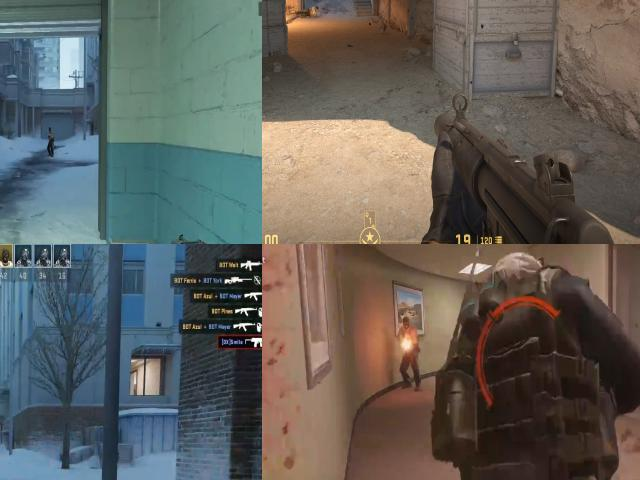T: (397, 312, 421, 360), (46, 125, 56, 144)
T-Head: (403, 317, 414, 332), (46, 126, 55, 138)
